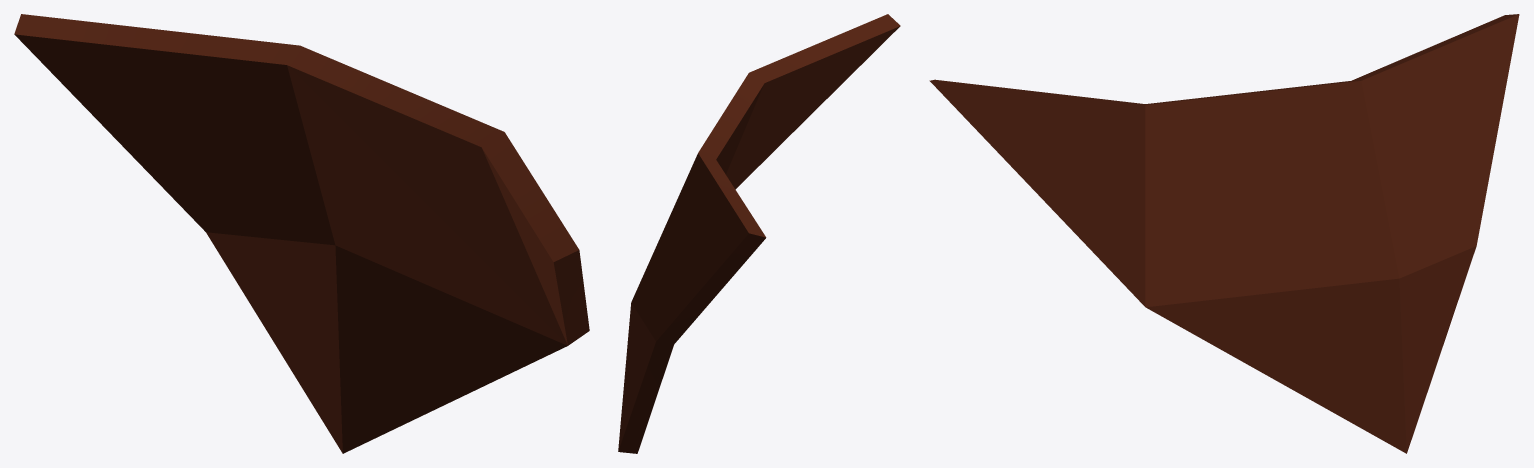
File: pot2piece2.fbx
3 views of the same model, side by side, from view 1: azimuth 30°, elevation 25°; view 2: azimuth 150°, elevation 25°; view 3: azimuth 270°, elevation 25° (orthographic). The views are drawn at different scales.
Parts seen in each view (by area): view 1: pot2broken2; view 2: pot2broken2; view 3: pot2broken2.
Part boxes in pixels (x1=…): pot2broken2: x1=14, y1=14, x2=589, y2=453; pot2broken2: x1=618, y1=14, x2=900, y2=453; pot2broken2: x1=929, y1=14, x2=1519, y2=453.
Size of the model in its own units: 13.82 by 16.98 by 26.59.
